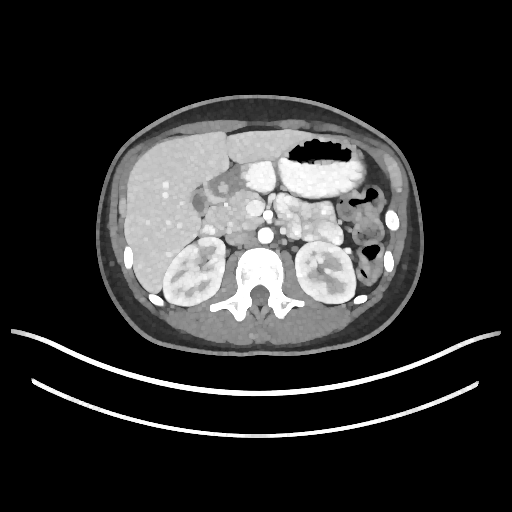Lesion: (190, 239, 201, 249)
